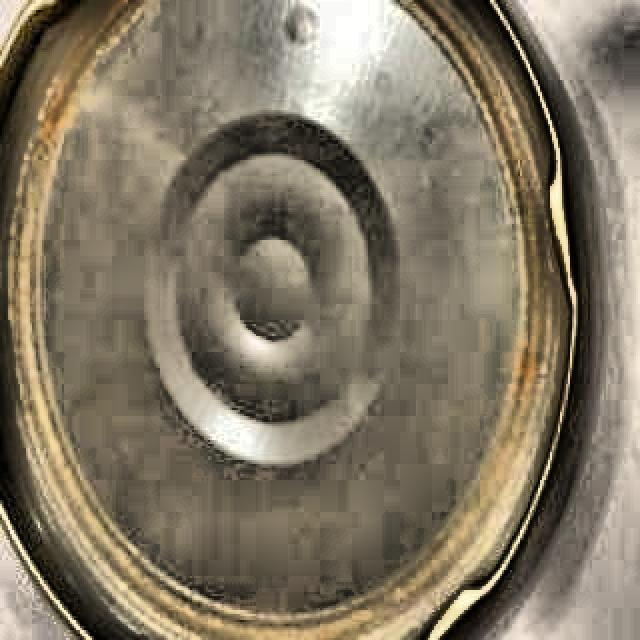metal: (0, 0, 582, 640)
